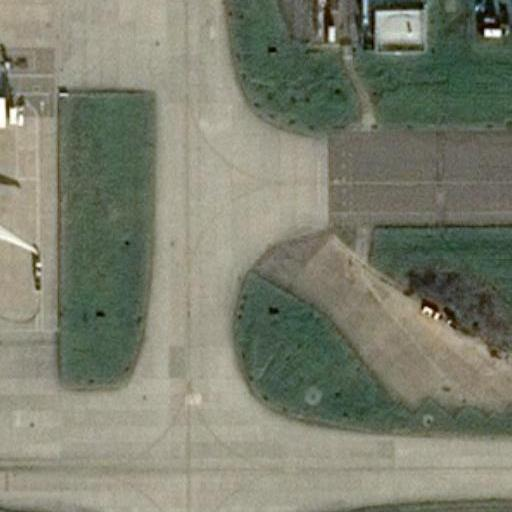Aircraft: (0, 123, 36, 324), (0, 120, 35, 324), (0, 0, 52, 49), (0, 0, 52, 46)
